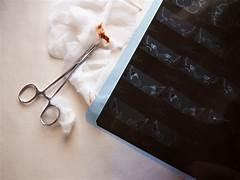cotton: (48, 0, 151, 104), (48, 0, 142, 104), (48, 0, 138, 62), (48, 6, 97, 60), (71, 49, 111, 104), (51, 96, 75, 135), (126, 0, 142, 9)
